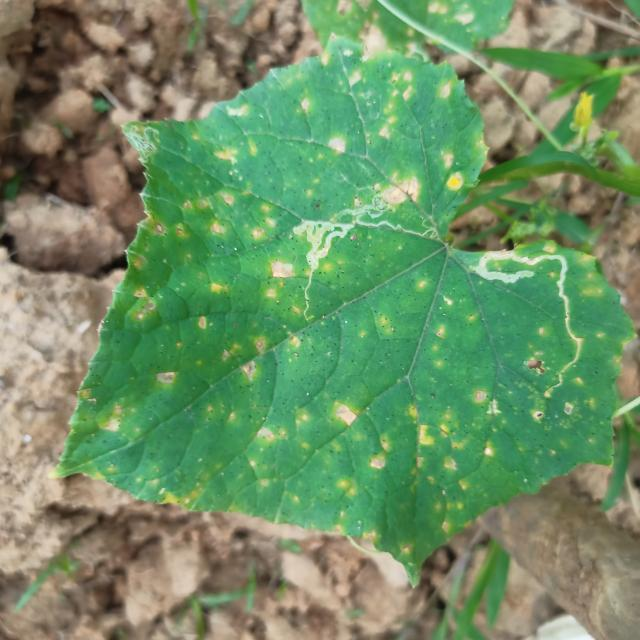disease_cucumber: (98, 59, 596, 536)
